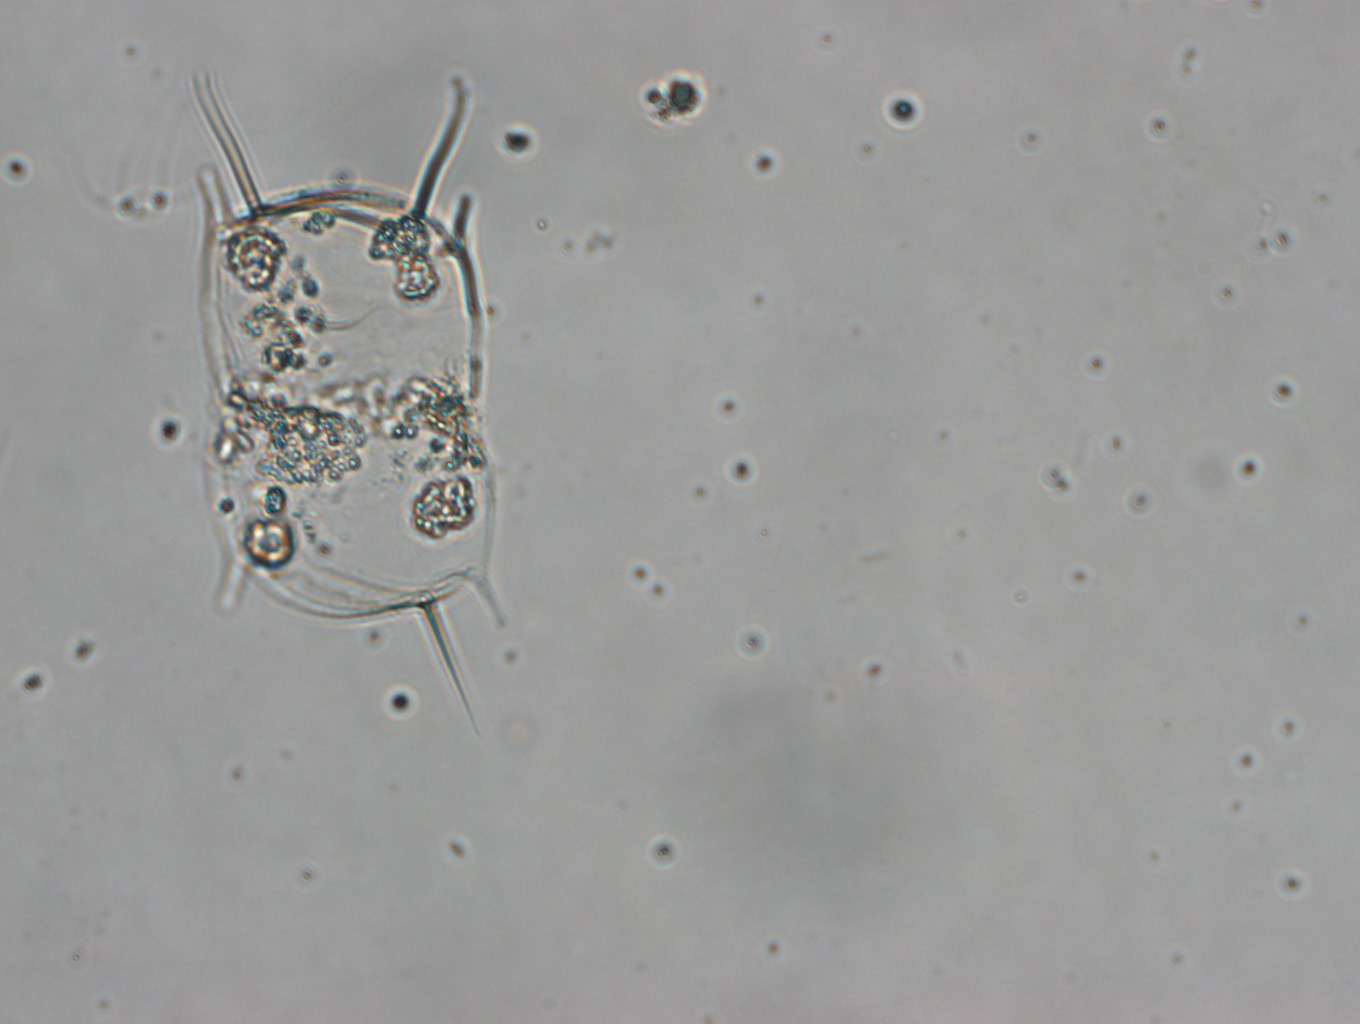biddulphia: (185, 68, 507, 741)
